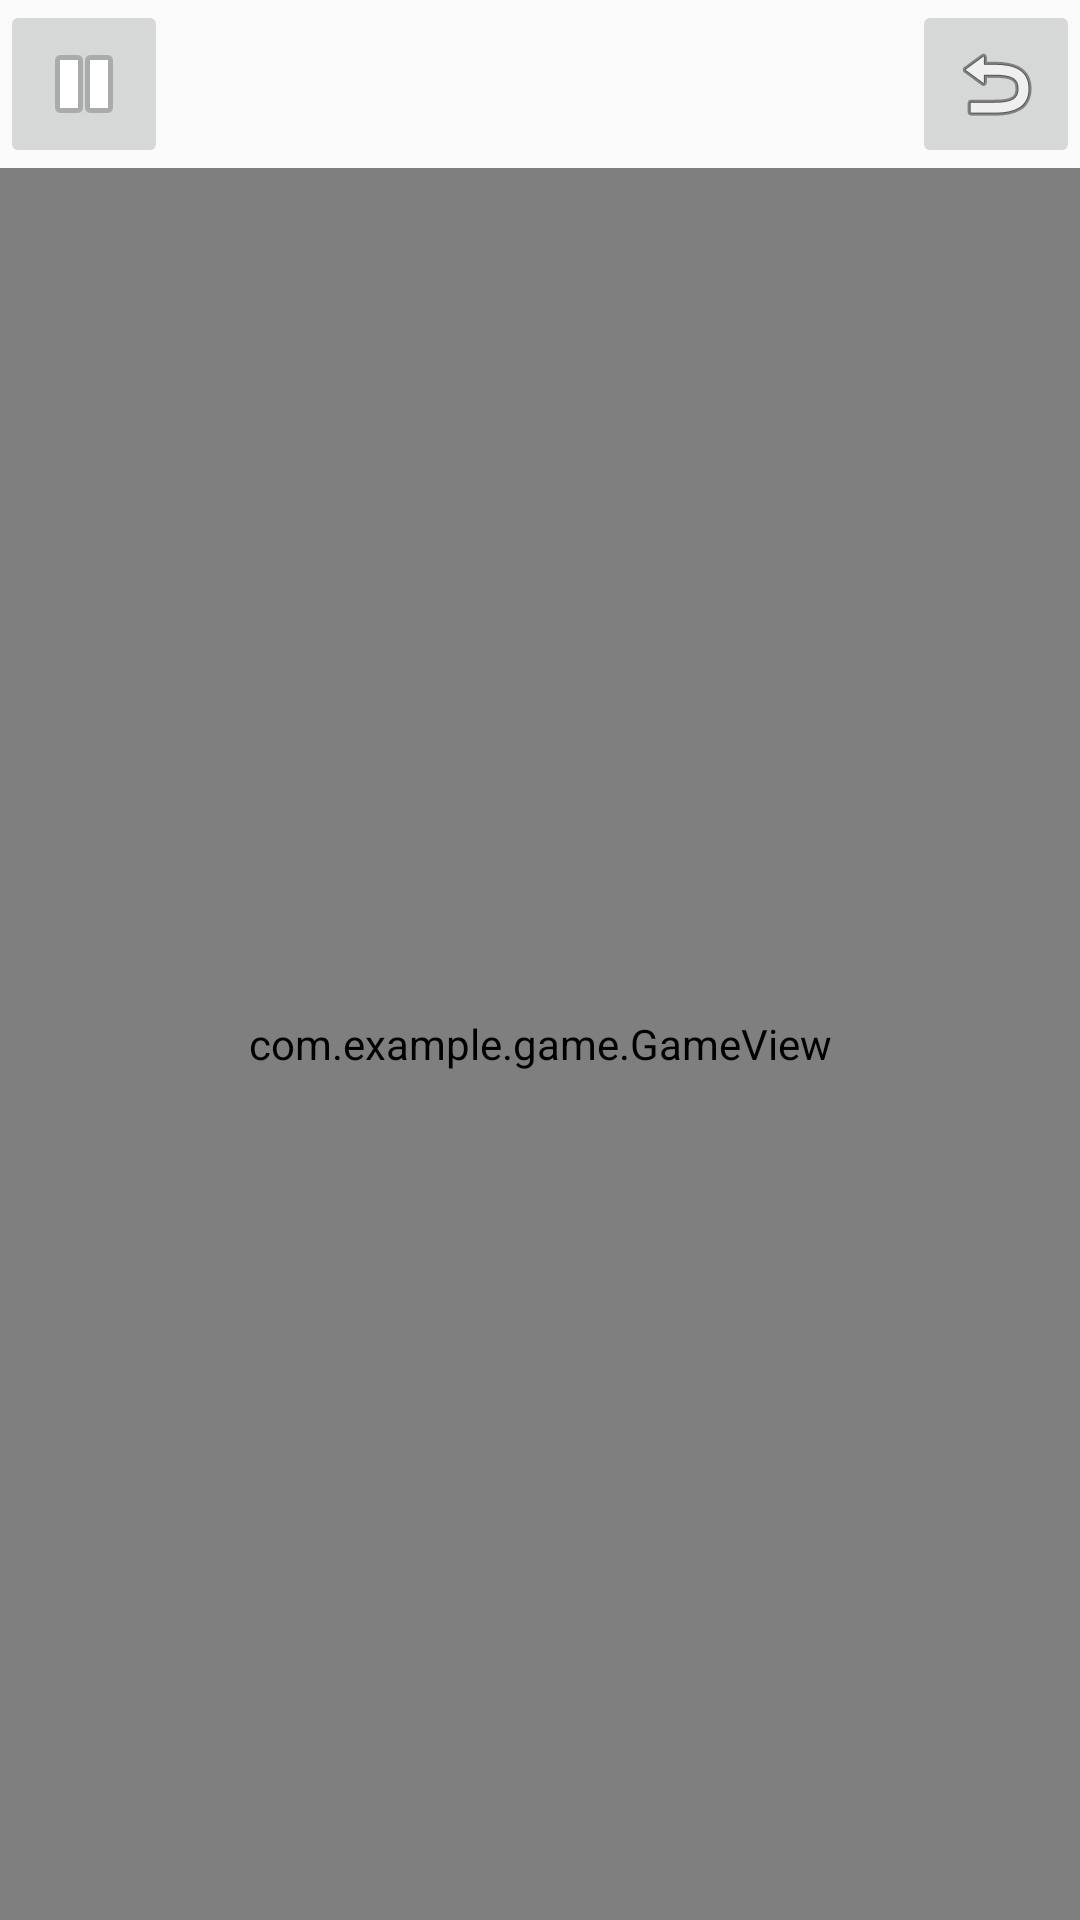

Screen size 1080px×1920px. Icon name, then its box in pixels as box(x1, y1, x2, y2):
press to pause game: box(12, 18, 156, 150)
press to restart game: box(924, 18, 1068, 150)
